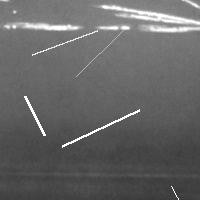scratches: (57, 105, 144, 151), (88, 1, 200, 34), (71, 25, 128, 81), (27, 26, 102, 60), (2, 16, 86, 34), (20, 91, 49, 140), (166, 181, 193, 200)
